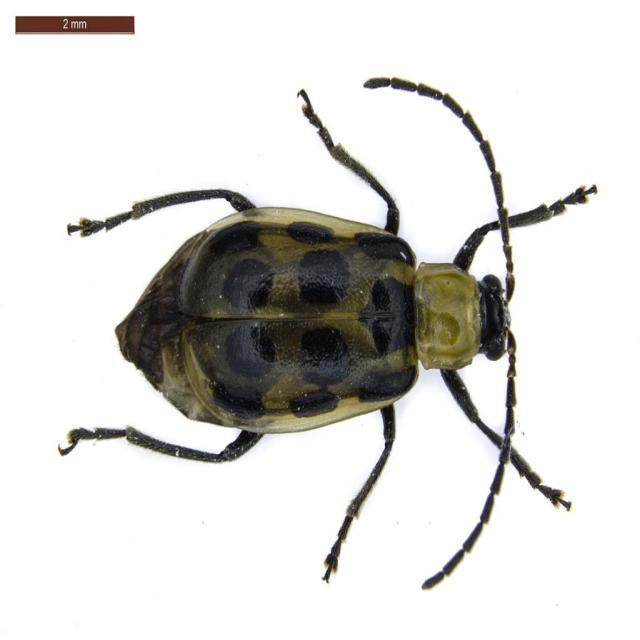gusano_verde: (58, 75, 600, 591)
